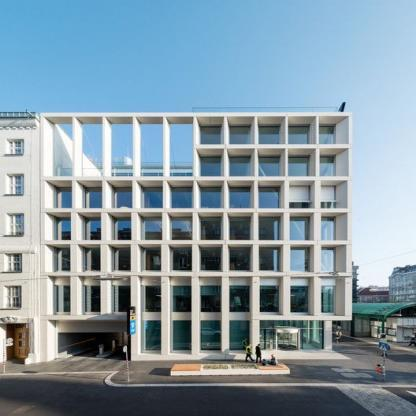Balcony: (53, 166, 194, 177), (194, 107, 338, 112)
Building Outline: (41, 112, 352, 360)
Dont: (122, 345, 130, 382), (244, 343, 255, 362), (262, 354, 278, 367), (254, 343, 262, 363)
Door: (56, 321, 131, 360), (276, 329, 299, 350)
Facade: (41, 112, 352, 360)
Floor: (41, 277, 352, 316), (41, 244, 352, 273), (41, 181, 352, 209), (41, 212, 352, 240), (194, 148, 352, 176)
Floor Slab: (41, 316, 352, 320), (41, 273, 352, 277), (41, 240, 352, 244), (41, 209, 352, 213), (41, 177, 352, 181), (194, 144, 352, 148)
Glass Wall: (260, 320, 325, 349)
Ground Floor: (41, 320, 332, 359)
Pillar: (163, 117, 166, 176), (72, 117, 75, 176), (102, 117, 105, 176), (132, 117, 135, 176)
Top Floor: (194, 112, 352, 144)
Window: (259, 277, 283, 316), (196, 149, 224, 177), (170, 320, 192, 352), (200, 320, 222, 352), (229, 320, 250, 352), (200, 247, 224, 273), (229, 247, 253, 273), (142, 320, 161, 352), (199, 216, 224, 240), (170, 286, 192, 312), (200, 286, 222, 312), (170, 247, 192, 273), (259, 247, 281, 273), (259, 286, 281, 312), (290, 285, 310, 313), (199, 186, 224, 208), (228, 186, 253, 208), (229, 286, 250, 312), (259, 216, 281, 240), (230, 216, 252, 240), (170, 216, 192, 240), (290, 247, 310, 273), (200, 155, 223, 177), (228, 155, 251, 177), (258, 155, 281, 177), (171, 186, 194, 208), (142, 286, 161, 312), (142, 247, 161, 273), (112, 247, 131, 273), (289, 155, 311, 177), (259, 186, 281, 208), (289, 186, 311, 208), (290, 216, 310, 240), (83, 247, 101, 273), (113, 286, 131, 312), (83, 286, 101, 312), (142, 217, 162, 240), (141, 187, 162, 208), (229, 125, 252, 144), (259, 125, 282, 144), (200, 125, 223, 144), (112, 217, 131, 240), (112, 187, 132, 208), (289, 125, 311, 144), (54, 286, 70, 312), (83, 217, 101, 240), (83, 187, 102, 208), (321, 285, 335, 313), (54, 248, 70, 272), (54, 187, 72, 208), (54, 218, 71, 240), (322, 247, 336, 273), (321, 216, 336, 240), (320, 155, 336, 177), (321, 186, 336, 208), (319, 125, 336, 144)
Window Hole: (45, 277, 70, 316), (77, 277, 101, 316), (107, 277, 131, 316), (137, 277, 161, 316), (259, 277, 283, 316), (290, 277, 314, 316), (321, 277, 344, 316), (169, 277, 192, 316), (199, 277, 222, 316), (229, 277, 252, 316), (229, 320, 253, 356), (199, 320, 223, 356), (138, 320, 161, 356), (169, 320, 192, 356), (288, 149, 316, 177), (197, 117, 225, 144), (258, 117, 286, 144), (289, 117, 317, 144), (320, 149, 347, 177), (258, 149, 285, 177), (228, 149, 255, 177), (45, 181, 72, 209), (321, 181, 348, 209), (197, 181, 224, 209), (167, 181, 194, 209), (136, 181, 163, 209), (106, 181, 133, 209), (75, 181, 102, 209), (321, 212, 348, 240), (228, 117, 255, 144), (321, 117, 348, 144), (227, 181, 253, 209), (45, 212, 71, 240), (198, 212, 224, 240), (228, 212, 254, 240), (259, 212, 285, 240), (45, 244, 70, 273), (322, 244, 347, 273), (259, 244, 284, 273), (228, 244, 253, 273), (199, 244, 224, 273), (136, 244, 161, 273), (106, 244, 131, 273), (76, 244, 101, 273), (290, 181, 315, 209), (259, 181, 284, 209), (76, 212, 101, 240), (106, 212, 131, 240), (290, 244, 314, 273), (168, 244, 192, 273), (138, 212, 162, 240), (168, 212, 192, 240), (290, 212, 314, 240)
